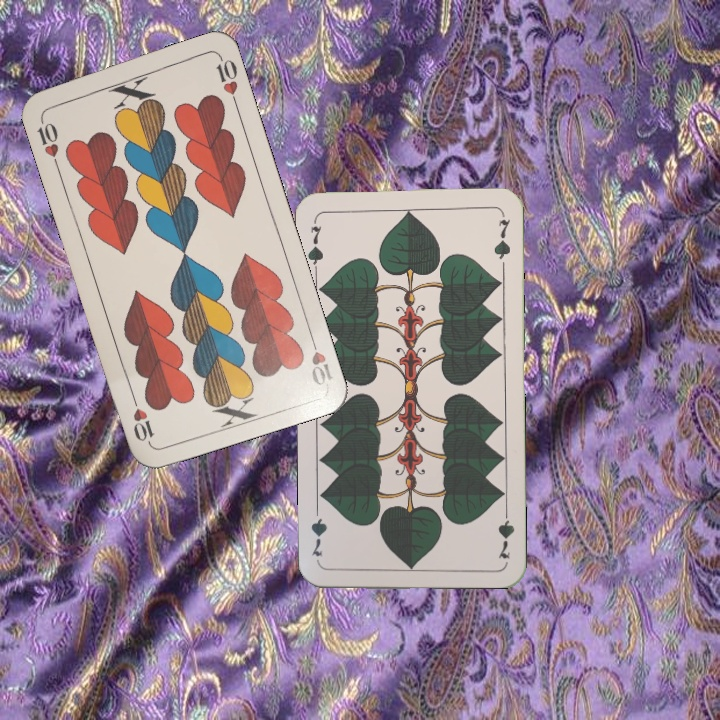G7: (494, 503, 517, 562), (303, 214, 325, 273)
H10: (305, 330, 336, 388), (32, 112, 62, 170)
